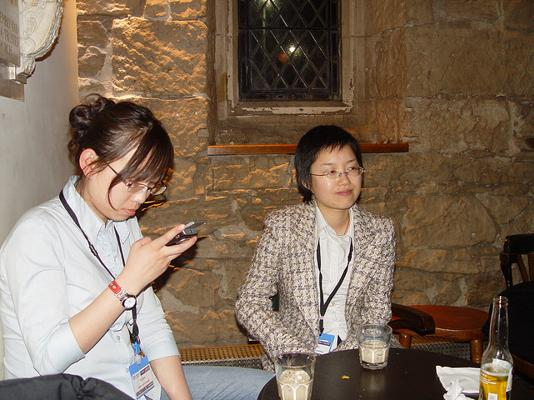person: (3, 98, 275, 400)
